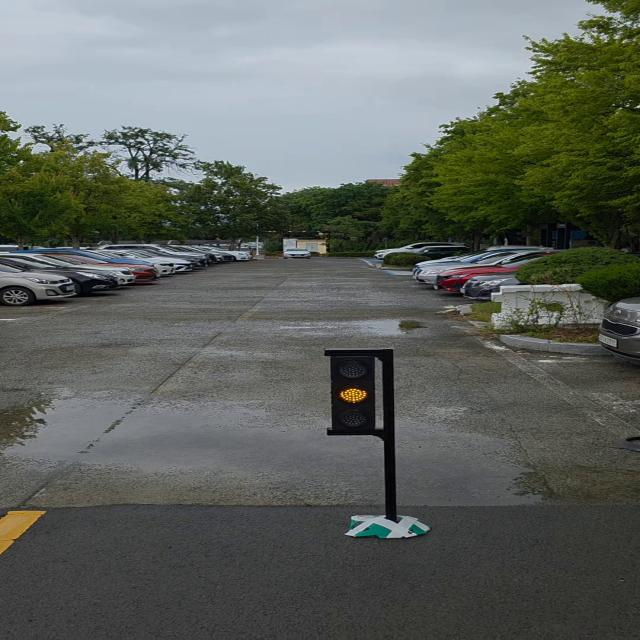yellow: (328, 348, 380, 429)
